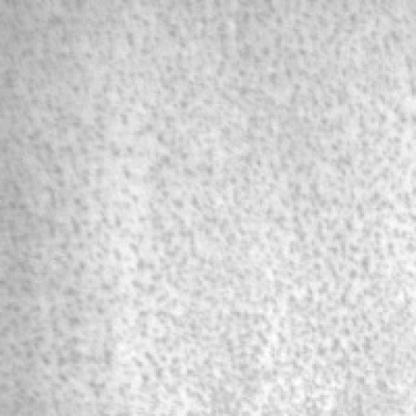pitted_surface: (12, 2, 414, 408)
